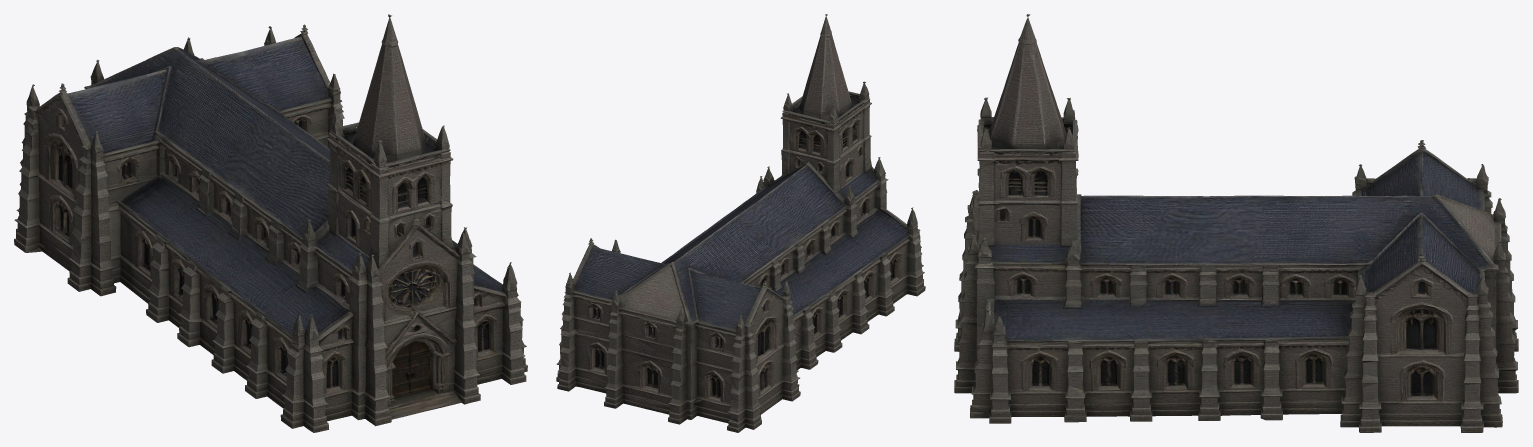
Rendered from bld_cathedral_a_LOD0.glb.
3 renders of one model, left to right at view 1: azimuth 30°, elevation 25°; view 2: azimuth 150°, elevation 25°; view 3: azimuth 270°, elevation 25°, orthographic. The views are drawn at different scales.
Visible parts, largest first — view 1: tripo_mesh_63ab42c3-7955-4384-b4b1-cdb2f3d9a7f2; view 2: tripo_mesh_63ab42c3-7955-4384-b4b1-cdb2f3d9a7f2; view 3: tripo_mesh_63ab42c3-7955-4384-b4b1-cdb2f3d9a7f2.
Boxes of the visible parts, bbox=[...] form: tripo_mesh_63ab42c3-7955-4384-b4b1-cdb2f3d9a7f2: bbox=[14, 14, 527, 432]; tripo_mesh_63ab42c3-7955-4384-b4b1-cdb2f3d9a7f2: bbox=[556, 14, 925, 432]; tripo_mesh_63ab42c3-7955-4384-b4b1-cdb2f3d9a7f2: bbox=[954, 14, 1518, 432].
Size of the model in its own units: 14 by 18 by 26.
Materials: 1 (1 with a texture image).
